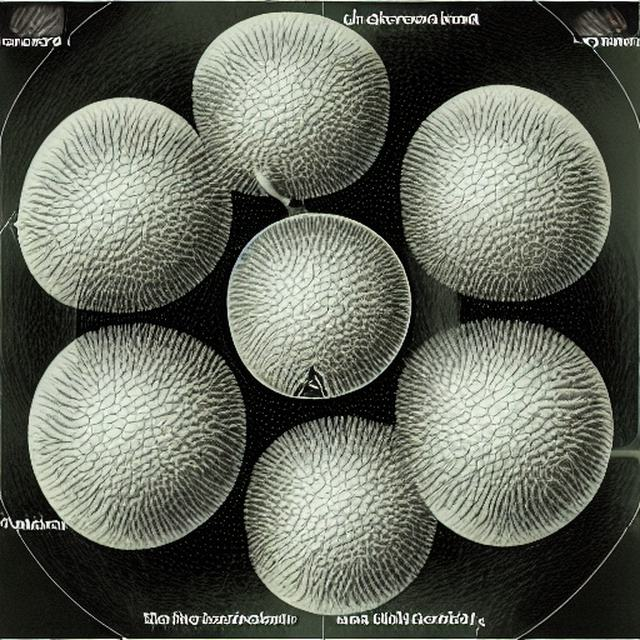Graph: (10, 5, 68, 38)
